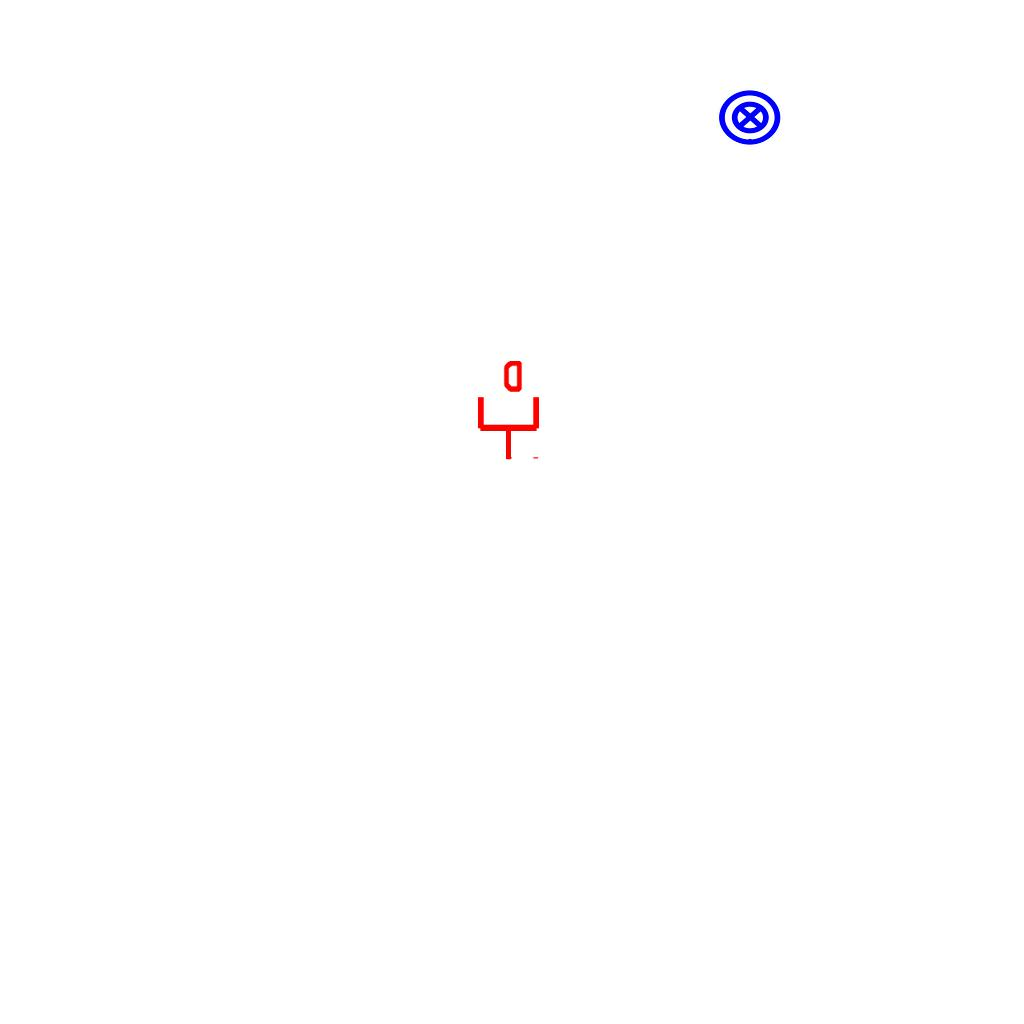Datenanschluss_einfach: (474, 361, 543, 461)
Taster_beleuchtet: (717, 84, 783, 150)
